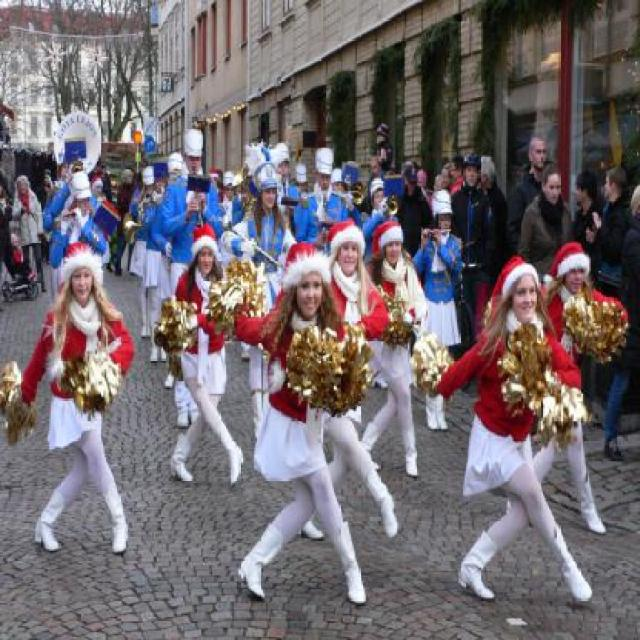Person: (0, 127, 638, 464), (432, 247, 594, 618), (241, 241, 359, 605), (14, 242, 135, 549), (297, 219, 403, 547), (535, 239, 631, 536), (162, 228, 242, 482), (360, 214, 426, 483)
